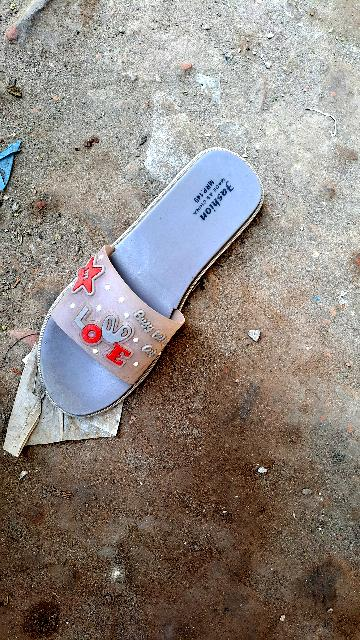sandal: (0, 105, 285, 429)
